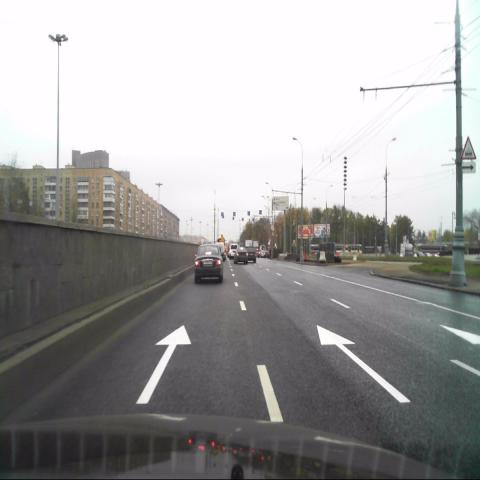1_5: (462, 136, 476, 160)
